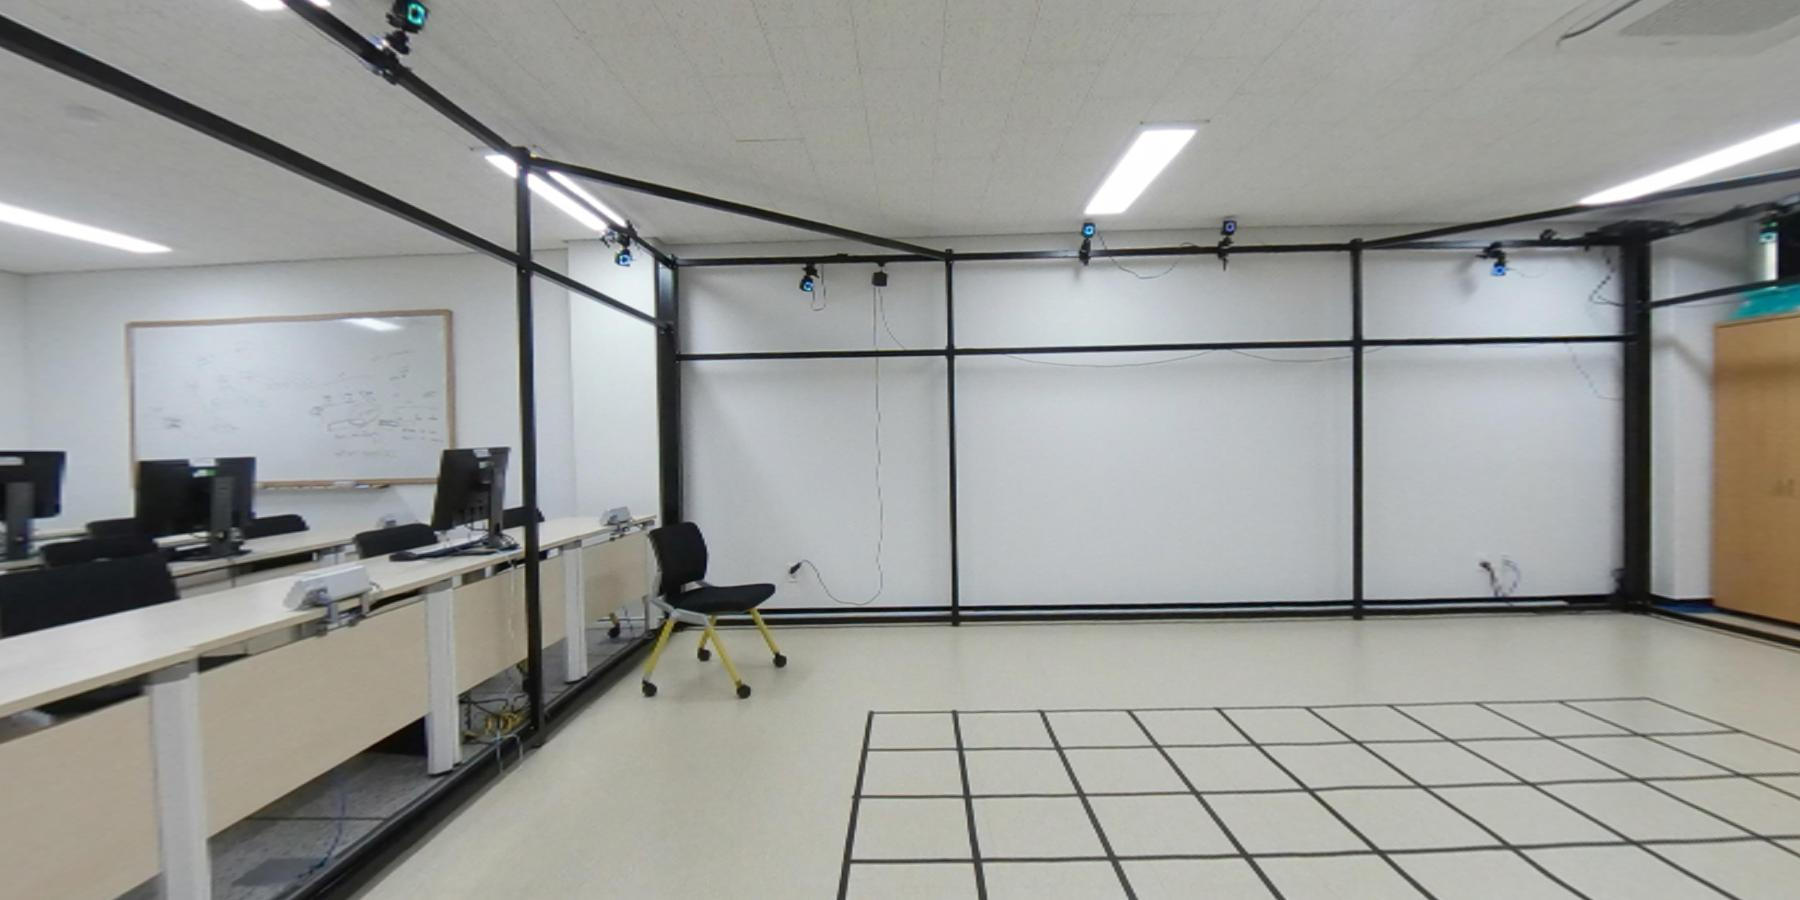AreaLight1: (470, 146, 638, 241)
